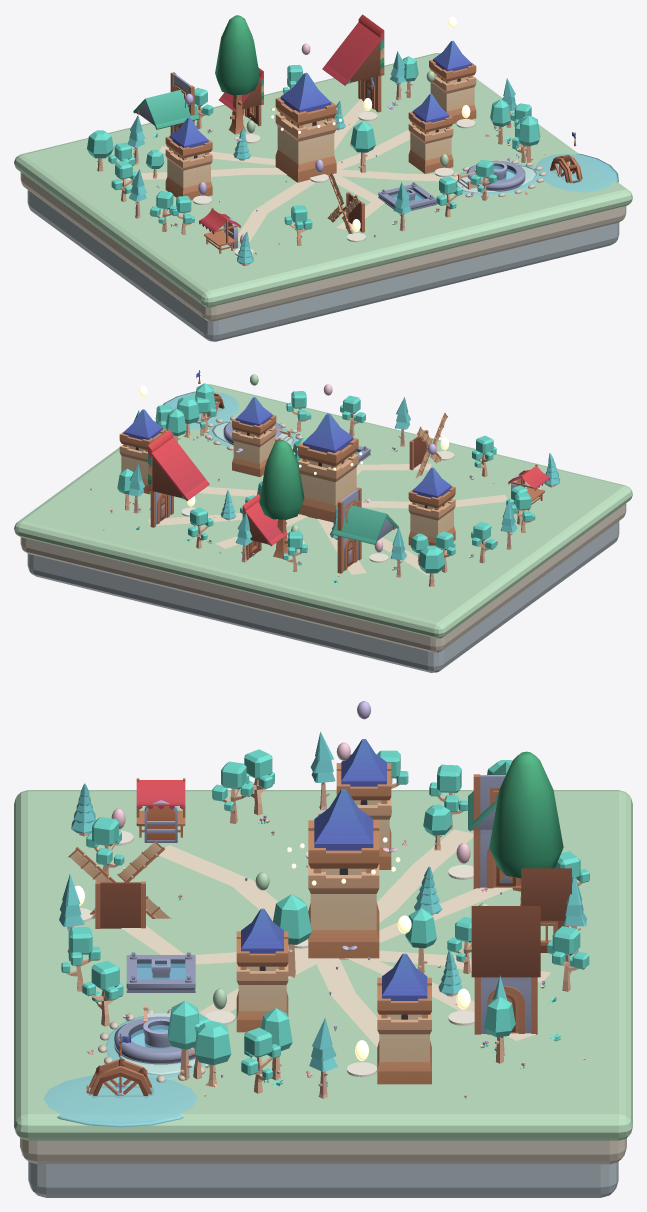
The model's file is sparkle-magic-world-v41.glb.
3 views of the same model, one above another, from view 1: azimuth 30°, elevation 25°; view 2: azimuth 150°, elevation 25°; view 3: azimuth 270°, elevation 25° (orthographic). The views are drawn at different scales.
Visible parts, largest first — view 1: Island lush meadow, Island lower blue rock, Island warm sandstone, tower-square.003, tree-high-round.001, roof-high.002, Ocean water outlet, tower-square-top-roof.003, tower-square.001, Golden garden trail 0, tower-square.004, roof-gable.001 (+25 smaller); view 2: Island lush meadow, Island lower blue rock, Island warm sandstone, tree-high-round.001, roof-high.002, tower-square.003, tower-square-top-roof.003, roof-gable.001, tower-square.004, tower-square.001, roof-high.001, tower-square-top-roof.001 (+26 smaller); view 3: Island lush meadow, Island lower blue rock, Island warm sandstone, tree-high-round.001, tower-square.003, Ocean water outlet, roof-high.002, tower-square-top-roof.003, Golden garden trail 0, tower-square.002, Golden garden trail 1, tower-square.004 (+40 smaller).
Boxes of the visible parts, bbox=[...] form: Island lush meadow: bbox=[14, 53, 632, 307]; Island lower blue rock: bbox=[27, 190, 619, 341]; Island warm sandstone: bbox=[20, 172, 626, 321]; tower-square.003: bbox=[275, 113, 336, 182]; tree-high-round.001: bbox=[215, 15, 259, 134]; roof-high.002: bbox=[322, 14, 384, 85]; Ocean water outlet: bbox=[535, 153, 618, 192]; tower-square-top-roof.003: bbox=[275, 72, 336, 125]; tower-square.001: bbox=[165, 148, 212, 200]; Golden garden trail 0: bbox=[238, 130, 410, 242]; tower-square.004: bbox=[408, 123, 453, 173]; roof-gable.001: bbox=[133, 90, 199, 129]; Island lush meadow: bbox=[14, 384, 632, 638]; Island lower blue rock: bbox=[27, 521, 619, 672]; Island warm sandstone: bbox=[20, 503, 626, 652]; tree-high-round.001: bbox=[259, 440, 304, 558]; roof-high.002: bbox=[148, 429, 209, 500]; tower-square.003: bbox=[298, 453, 358, 522]; tower-square-top-roof.003: bbox=[297, 413, 358, 466]; roof-gable.001: bbox=[332, 505, 398, 544]; tower-square.004: bbox=[232, 426, 276, 476]; tower-square.001: bbox=[408, 498, 455, 549]; roof-high.001: bbox=[242, 494, 287, 546]; tower-square-top-roof.001: bbox=[408, 467, 455, 508]; Island lush meadow: bbox=[14, 790, 632, 1140]; Island lower blue rock: bbox=[28, 1162, 618, 1197]; Island warm sandstone: bbox=[20, 1138, 626, 1164]; tree-high-round.001: bbox=[489, 751, 563, 905]; tower-square.003: bbox=[308, 864, 379, 959]; Ocean water outlet: bbox=[43, 1075, 197, 1127]; roof-high.002: bbox=[471, 906, 540, 977]; tower-square-top-roof.003: bbox=[308, 789, 379, 868]; Golden garden trail 0: bbox=[159, 845, 379, 1047]; tower-square.002: bbox=[377, 1011, 431, 1084]; Golden garden trail 1: bbox=[198, 829, 473, 1016]; tower-square.004: bbox=[236, 963, 288, 1032].
Size of what is drawn, in the model's own units: 39.7 by 15.85 by 30.5.
Materials: 55 (18 with a texture image).
